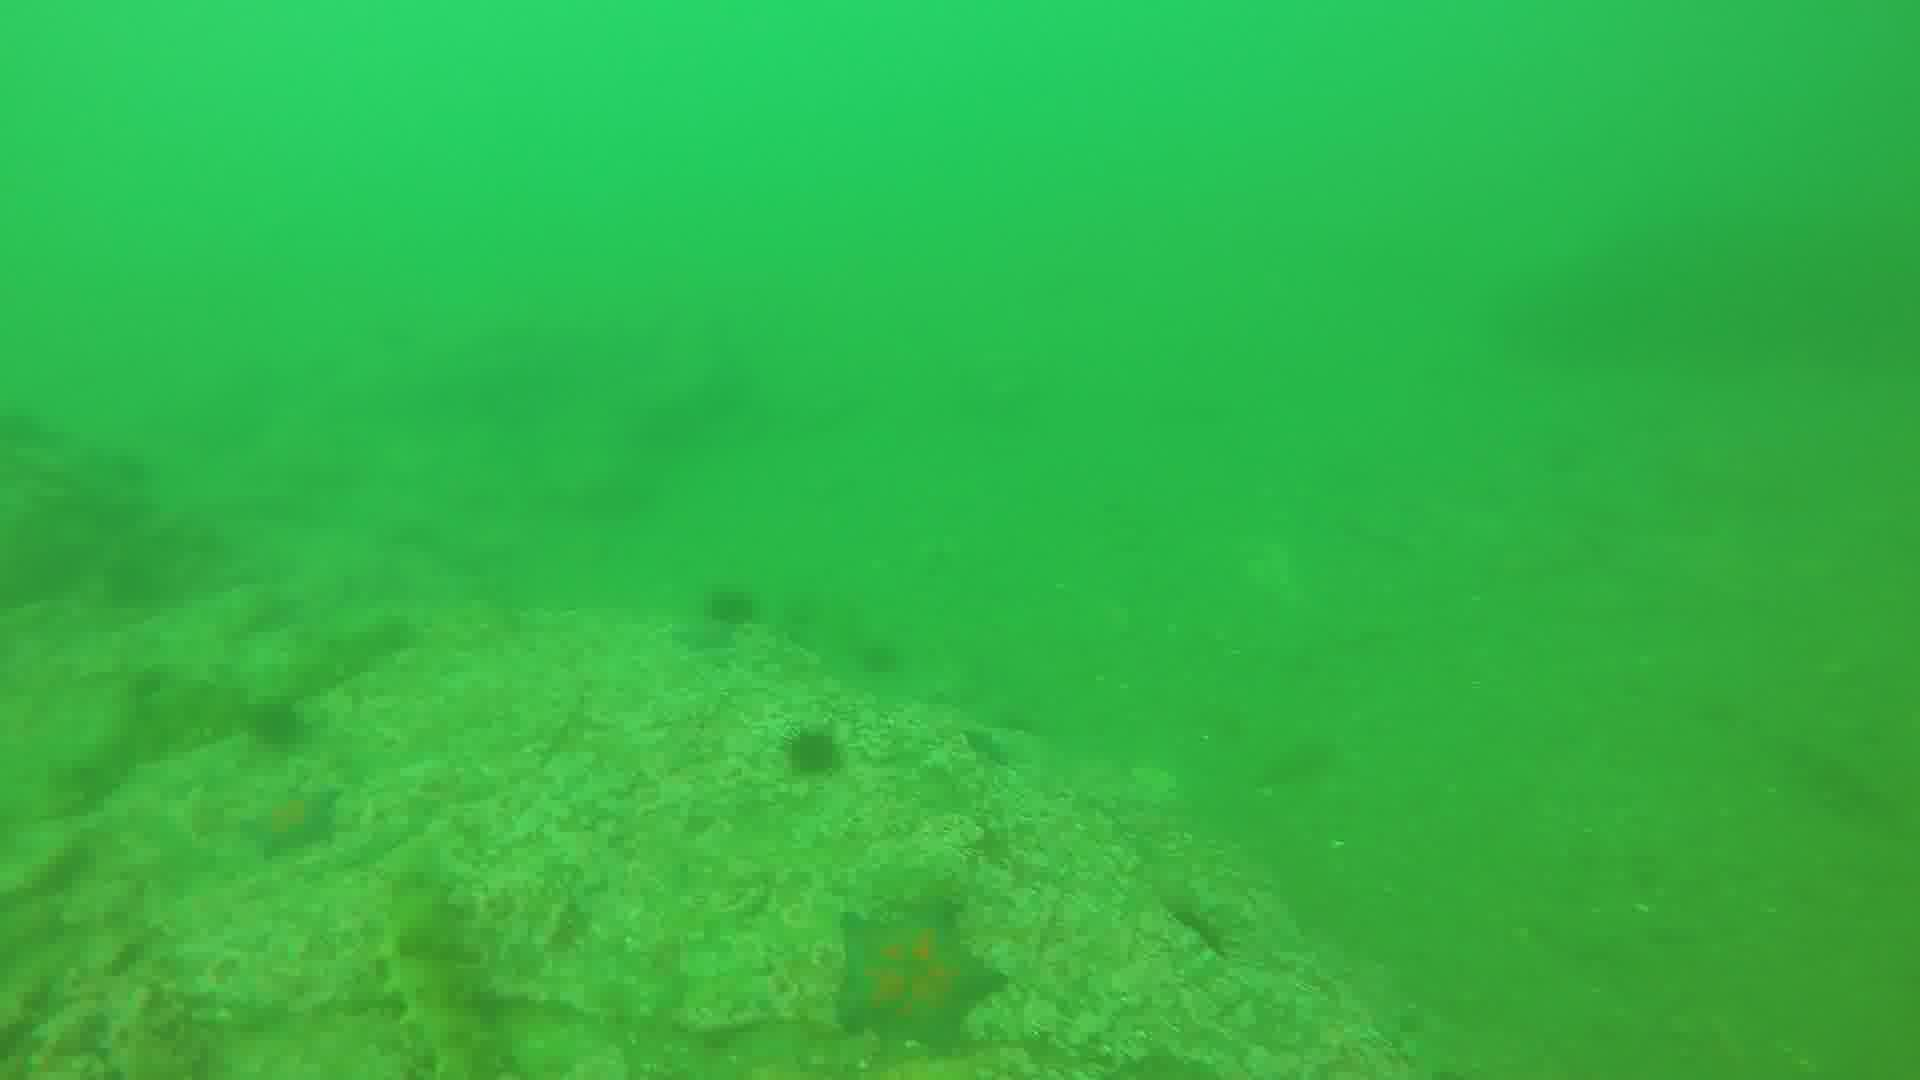echinus: (256, 700, 305, 742), (791, 735, 835, 781), (717, 593, 775, 624)
holothurian: (367, 886, 525, 1080)
starfish: (835, 893, 996, 1058), (239, 785, 345, 858), (673, 626, 745, 658)
